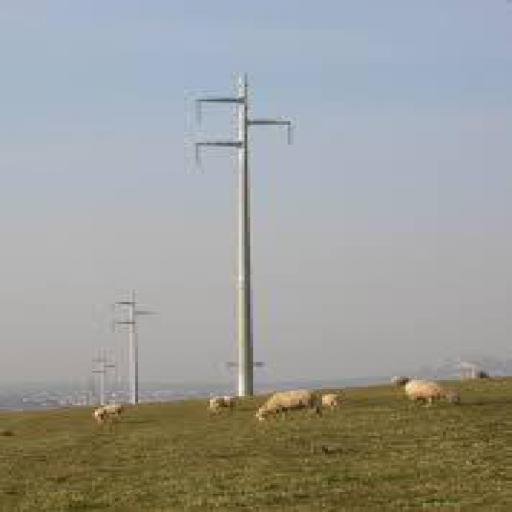mono_10: (193, 71, 293, 398), (115, 288, 158, 404), (89, 349, 121, 405)
